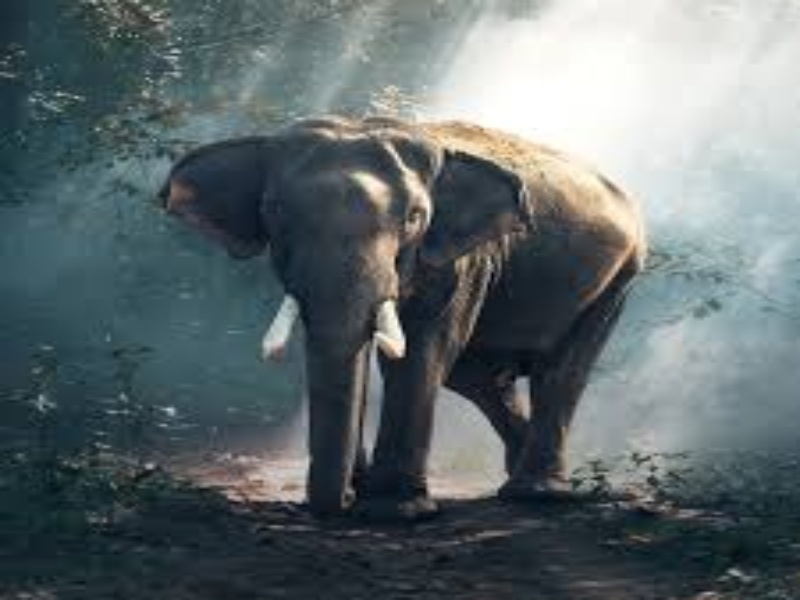elephant: (148, 81, 657, 525)
